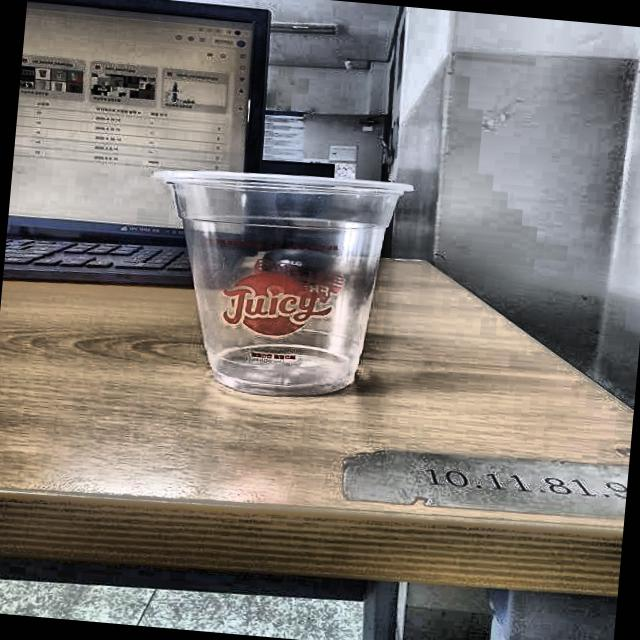plastic cup: (132, 159, 412, 404)
